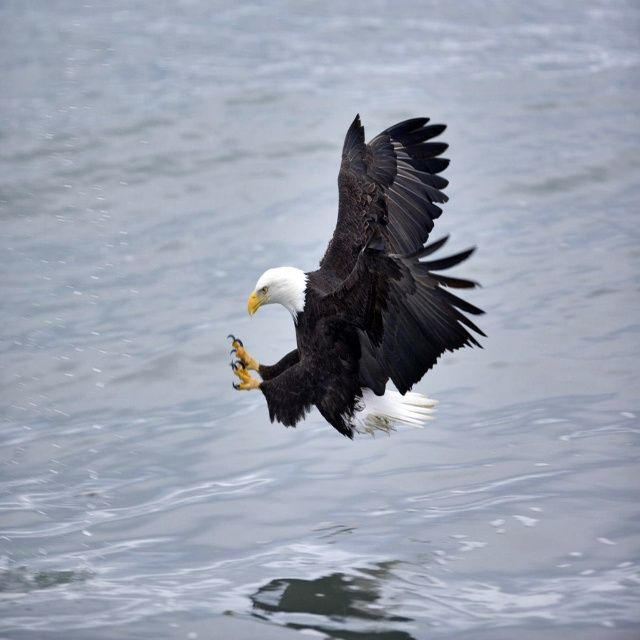Eagle: (226, 111, 486, 439)
